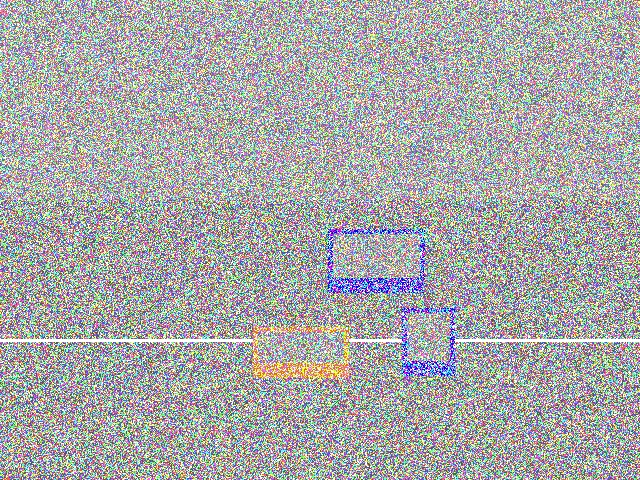bus: (396, 297, 508, 440)
motorcycle: (341, 278, 479, 384)
truck: (45, 278, 201, 329)
